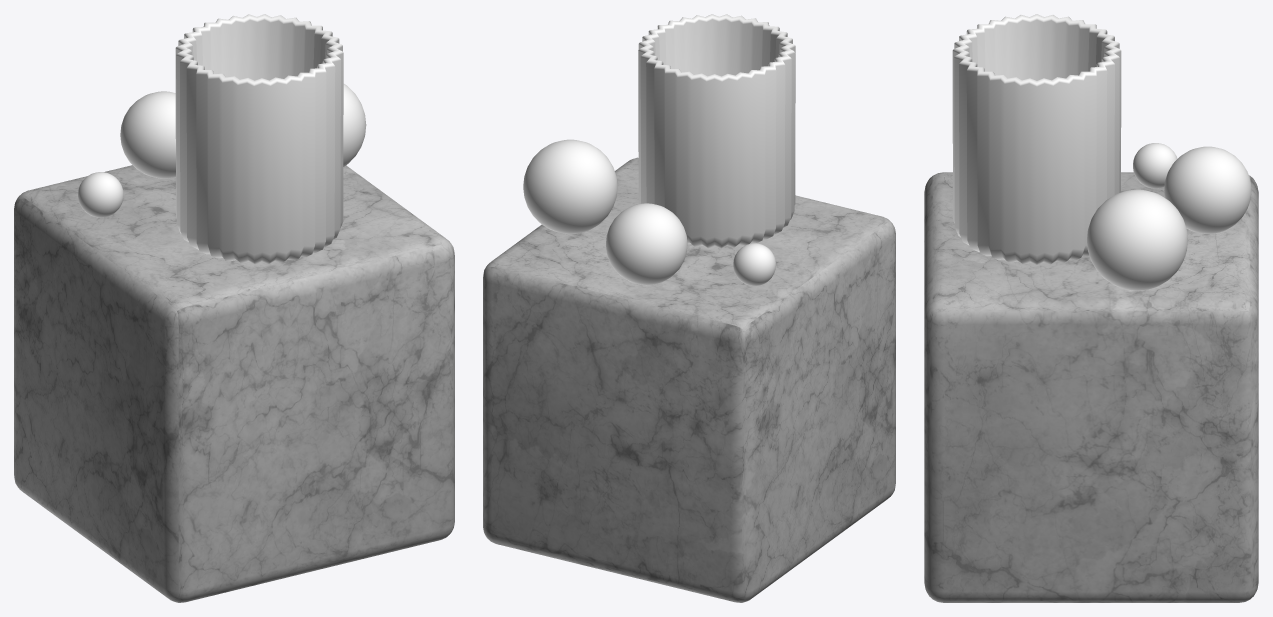
Rendered from beach.glb.
The picture shows the model from 3 angles, left to right: view 1: azimuth 30°, elevation 25°; view 2: azimuth 150°, elevation 25°; view 3: azimuth 270°, elevation 25°; orthographic projection. The views are drawn at different scales.
Visible parts, largest first — view 1: Cube, Cylinder, Sphere.001, Sphere.002, Sphere; view 2: Cube, Cylinder, Sphere, Sphere.001, Sphere.002; view 3: Cube, Cylinder, Sphere, Sphere.001, Sphere.002.
Part boxes in pixels (x1=…): Cube: x1=14, y1=165, x2=454, y2=602; Cylinder: x1=175, y1=14, x2=343, y2=264; Sphere.001: x1=120, y1=91, x2=175, y2=178; Sphere.002: x1=78, y1=172, x2=123, y2=217; Sphere: x1=343, y1=84, x2=366, y2=166; Cube: x1=483, y1=157, x2=895, y2=602; Cylinder: x1=638, y1=14, x2=795, y2=248; Sphere: x1=523, y1=139, x2=617, y2=233; Sphere.001: x1=606, y1=203, x2=687, y2=285; Sphere.002: x1=733, y1=243, x2=775, y2=285; Cube: x1=924, y1=172, x2=1258, y2=602; Cylinder: x1=952, y1=14, x2=1121, y2=264; Sphere: x1=1087, y1=189, x2=1187, y2=290; Sphere.001: x1=1164, y1=146, x2=1251, y2=233; Sphere.002: x1=1133, y1=143, x2=1177, y2=188.
Size of the model in its own units: 13.82 by 22.07 by 13.65.
5 materials, 1 textured.
